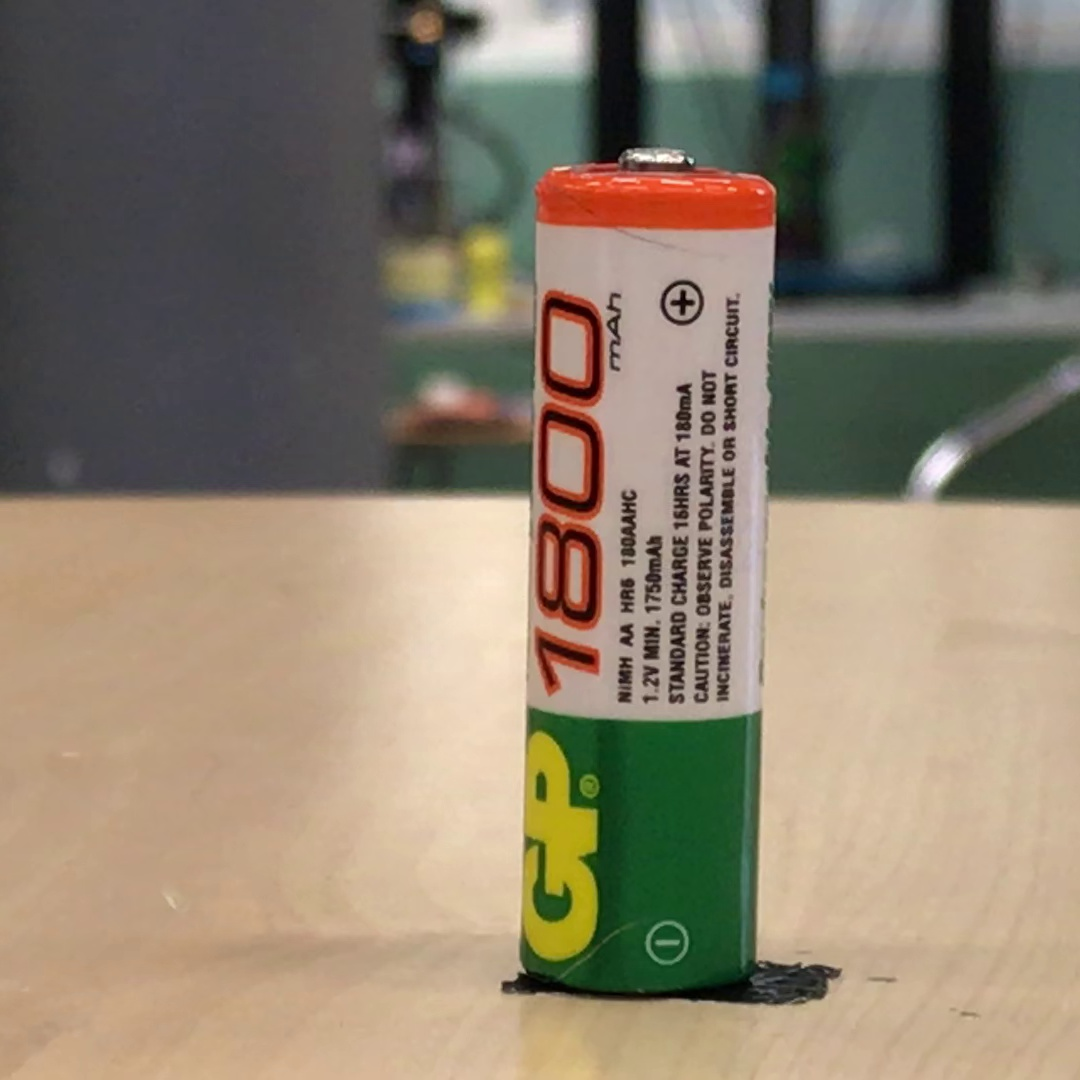keyword: (632, 657, 668, 713)
